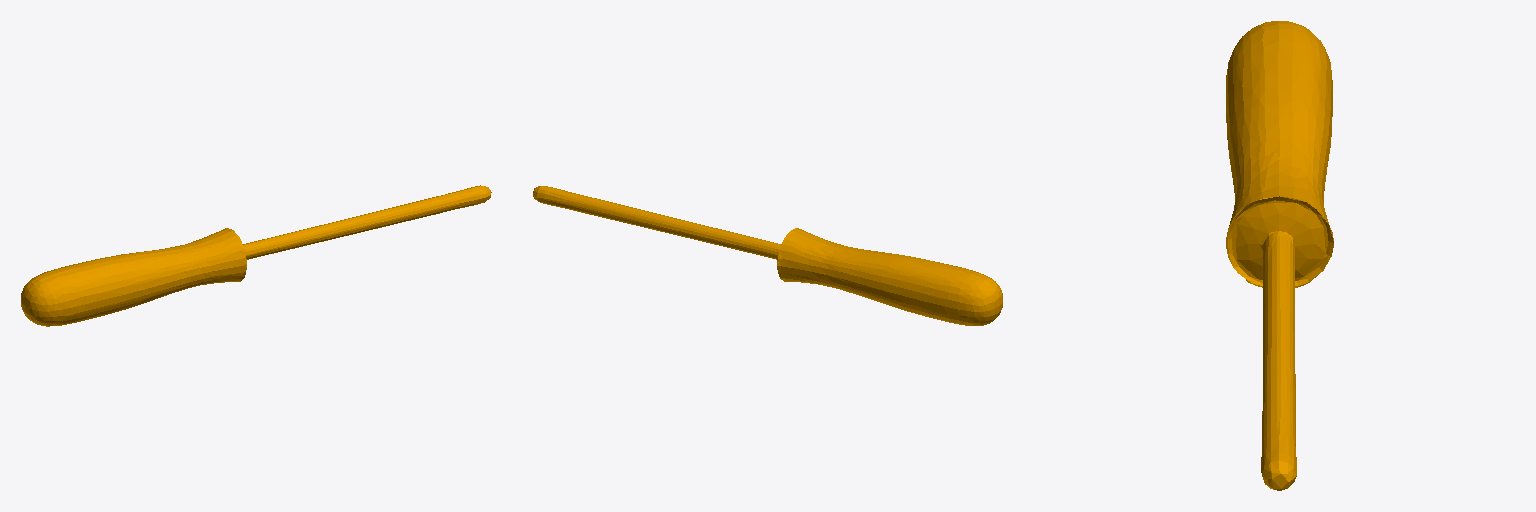
The robot description file, URDF, robot "black_screwdriver":
<?xml version="1.0"?>
<robot name="black_screwdriver">
  <link name="black_screwdriver">
    <visual>
      <origin xyz="0 0 0" rpy="0 0 0"/>
      <geometry>
        <mesh filename="black_screwdriver.obj" scale="1 1 1"/>
      </geometry>
    </visual>
    <collision>
      <origin xyz="0 0 0" rpy="0 0 0"/>
      <geometry>
        <mesh filename="black_screwdriver.obj" scale="1 1 1"/>
      </geometry>
    </collision>
    <inertial>
      <density value="400.0"/>
    </inertial>
  </link>
</robot>

--- Render facts (derived) ---
3 views of the same robot in one strip: view 1: azimuth 30°, elevation 25°; view 2: azimuth 150°, elevation 25°; view 3: azimuth 270°, elevation 25° (orthographic).
Robot: black_screwdriver — 1 links, 0 joints (none); root link black_screwdriver; default pose: every joint at zero.
Visible links, largest first — view 1: black_screwdriver; view 2: black_screwdriver; view 3: black_screwdriver.
Boxes of the visible links, box(x1,y1,x2,y2) form: black_screwdriver: box(21, 185, 491, 326); black_screwdriver: box(533, 186, 1002, 325); black_screwdriver: box(1226, 21, 1333, 490).
Bounding box of the posed robot: 0.2801 × 0.0299 × 0.0293 m (x, y, z).
1 mesh visuals loaded from 1 distinct referenced files (1 OBJ).
